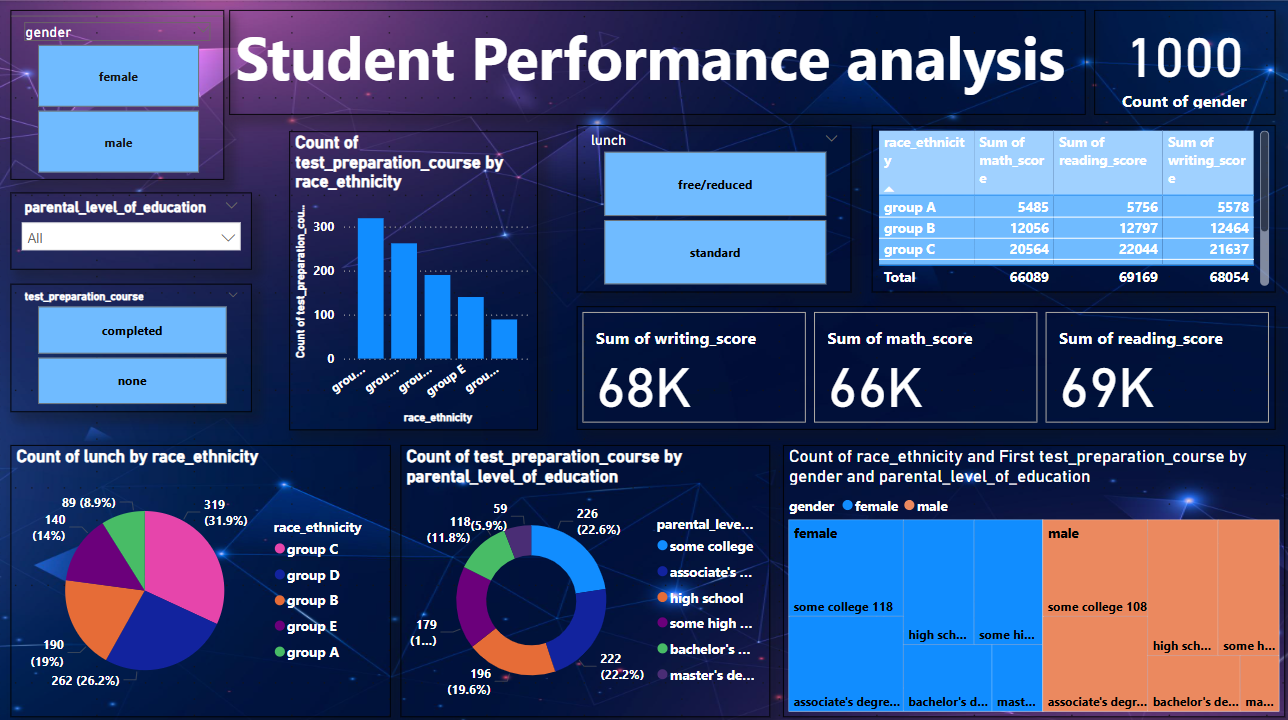

This screenshot's page, from the dashboard's own definition file:
{"tool":"powerbi","page":{"name":"Student","canvas":[1280,720],"ordinal":0},"visuals":[{"type":"slicer","fields":{"Values":["study_performance.gender"]},"box":[12.3,9.8,210.5,167.4],"z":0},{"type":"pieChart","fields":{"Category":["study_performance.race_ethnicity"],"Y":["CountNonNull(study_performance.lunch)"]},"box":[12.3,438.2,374.2,268.3],"z":1000},{"type":"textbox","box":[227.7,9.8,843.1,103.4],"z":2000},{"type":"lineStackedColumnComboChart","fields":{"Category":["study_performance.race_ethnicity"],"Y":["CountNonNull(study_performance.test_preparation_course)"]},"box":[286.8,129.2,244.9,294.2],"z":3000},{"type":"cardVisual","fields":{"Data":["Sum(study_performance.writing_score)","Sum(study_performance.math_score)","Sum(study_performance.reading_score)"]},"box":[569.8,301.5,688,121.8],"z":4000},{"type":"donutChart","fields":{"Category":["study_performance.parental_level_of_education"],"Y":["CountNonNull(study_performance.test_preparation_course)"]},"box":[396.3,438.2,364.3,268.3],"z":5000},{"type":"treemap","fields":{"Group":["study_performance.gender"],"Details":["study_performance.parental_level_of_education"],"Values":["CountNonNull(study_performance.race_ethnicity)"]},"box":[772.9,438.2,494.8,268.3],"z":6000},{"type":"card","fields":{"Values":["CountNonNull(study_performance.gender)"]},"box":[1079.4,9.8,178.5,103.4],"z":7000},{"type":"slicer","fields":{"Values":["study_performance.parental_level_of_education"]},"box":[12.3,189.5,237.5,76.3],"z":8000},{"type":"slicer","fields":{"Values":["study_performance.test_preparation_course"]},"box":[12.3,279.4,237.5,126.8],"z":9000},{"type":"slicer","fields":{"Values":["study_performance.lunch"]},"box":[569.8,123.1,270.8,164.9],"z":10000},{"type":"tableEx","fields":{"Values":["study_performance.race_ethnicity","Sum(study_performance.math_score)","Sum(study_performance.reading_score)","Sum(study_performance.writing_score)"]},"box":[860.3,123.1,397.5,164.9],"z":11000}]}

Visuals, with their boxes in screenshot pixels (x1, y1, x2, y2), scaled from the page's 1280x720 canvas onto the 1288x720 screenshot:
slicer - study_performance.gender: <region>12, 10, 224, 177</region>
pieChart - study_performance.race_ethnicity x CountNonNull(study_performance.lunch): <region>12, 438, 389, 706</region>
textbox: <region>229, 10, 1077, 113</region>
lineStackedColumnComboChart - study_performance.race_ethnicity x CountNonNull(study_performance.test_preparation_course): <region>289, 129, 535, 423</region>
cardVisual - Sum(study_performance.writing_score) x Sum(study_performance.math_score): <region>573, 302, 1266, 423</region>
donutChart - study_performance.parental_level_of_education x CountNonNull(study_performance.test_preparation_course): <region>399, 438, 765, 706</region>
treemap - study_performance.gender x study_performance.parental_level_of_education: <region>778, 438, 1276, 706</region>
card - CountNonNull(study_performance.gender): <region>1086, 10, 1266, 113</region>
slicer - study_performance.parental_level_of_education: <region>12, 190, 251, 266</region>
slicer - study_performance.test_preparation_course: <region>12, 279, 251, 406</region>
slicer - study_performance.lunch: <region>573, 123, 846, 288</region>
tableEx - study_performance.race_ethnicity x Sum(study_performance.math_score): <region>866, 123, 1266, 288</region>
